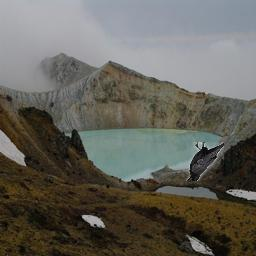Crow: (186, 142, 224, 181)
